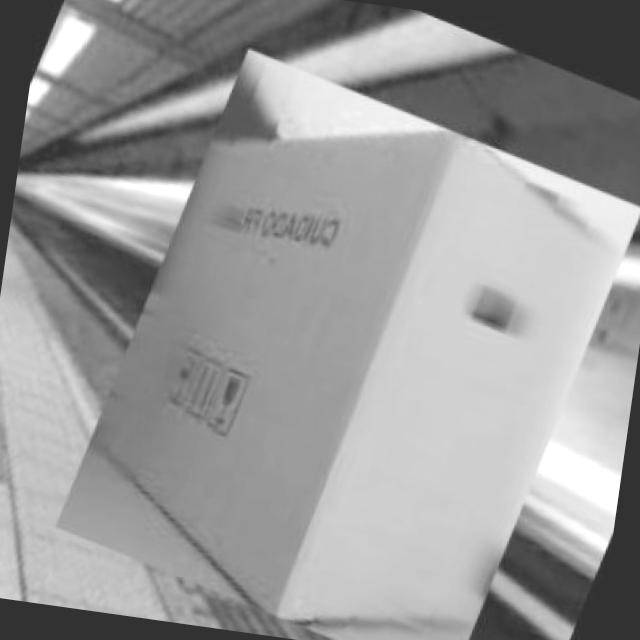box: (32, 19, 640, 640)
